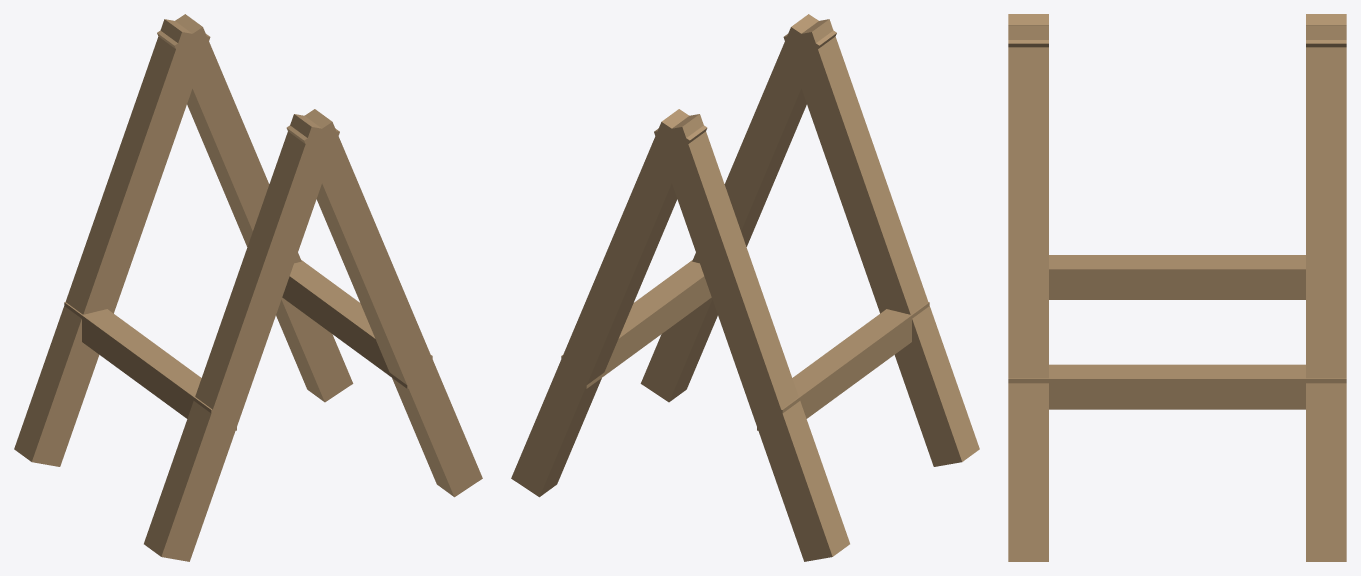
The model's file is prop-grindstone-aframe-blank-gf1.fbx.
3 renders of one model, left to right at view 1: azimuth 30°, elevation 25°; view 2: azimuth 150°, elevation 25°; view 3: azimuth 270°, elevation 25°, orthographic. The views are drawn at different scales.
Visible parts, largest first — view 1: prop-grindstone-aframe-blank-gf1; view 2: prop-grindstone-aframe-blank-gf1; view 3: prop-grindstone-aframe-blank-gf1.
Part boxes in pixels (x1=…): prop-grindstone-aframe-blank-gf1: x1=14, y1=14, x2=482, y2=561; prop-grindstone-aframe-blank-gf1: x1=511, y1=14, x2=979, y2=561; prop-grindstone-aframe-blank-gf1: x1=1008, y1=14, x2=1346, y2=561.
Bounding box in the file's own units: 63.06 × 75.94 × 50.
